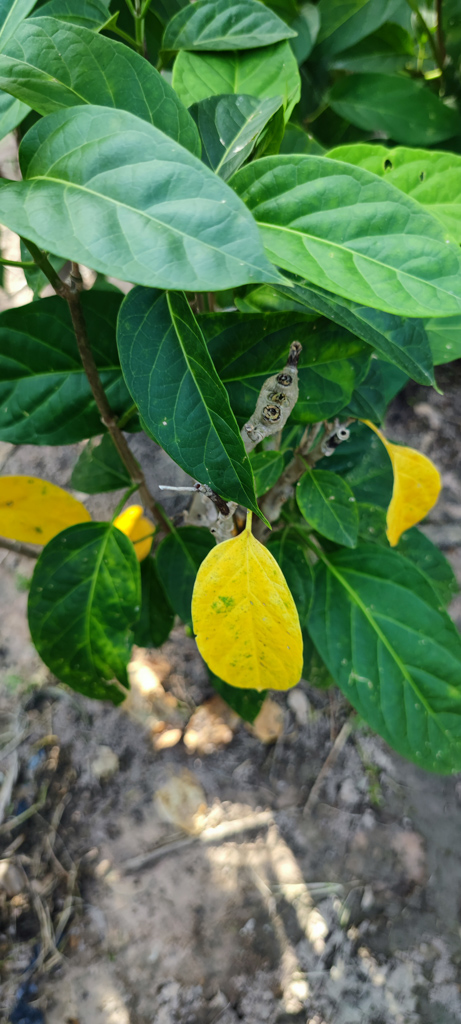Pepper yellow leaf: (184, 520, 319, 714), (367, 408, 448, 567), (4, 471, 90, 557), (110, 498, 156, 574)
